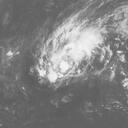cyclone: (46, 24, 100, 83)
